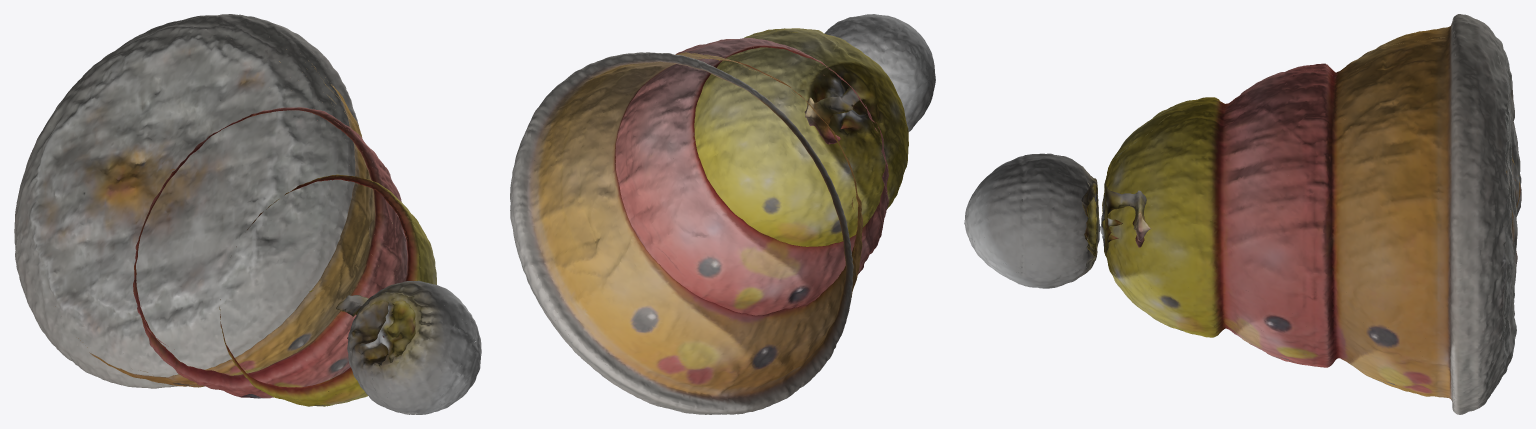
Rendered from chicken.glb.
3 renders of one model, left to right at view 1: azimuth 30°, elevation 25°; view 2: azimuth 150°, elevation 25°; view 3: azimuth 270°, elevation 25°, orthographic. The views are drawn at different scales.
Bounding box in the file's own units: 0.7195 × 0.7213 × 1.
